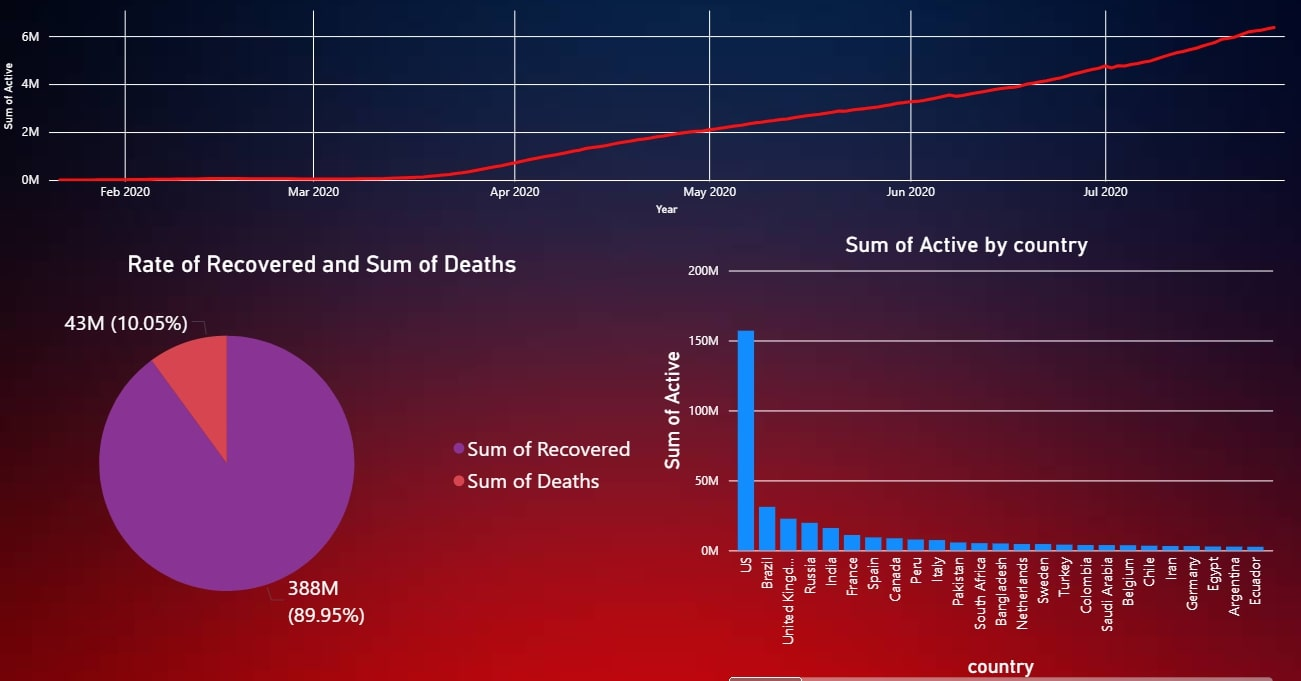

The dashboard page shown, as its layout file describes it:
{"tool":"powerbi","page":{"name":"Page 1","canvas":[1280,720],"ordinal":0},"visuals":[{"type":"lineChart","title":"Active by Year, Month and Day","fields":{"Y":["Sum(covid.Active)"],"Category":["covid.Date.Variation.Date Hierarchy.Year","covid.Date.Variation.Date Hierarchy.Month","covid.Date.Variation.Date Hierarchy.Day"]},"box":[0,12.3,1279.8,246.6],"z":0},{"type":"clusteredColumnChart","fields":{"Category":["covid.country"],"Y":["Sum(covid.Active)"]},"box":[645.4,269.9,611,450.3],"z":1000},{"type":"pieChart","title":"Rate of Recovered and Sum of Deaths","fields":{"Y":["Sum(covid.Recovered)","Sum(covid.Deaths)"]},"box":[0,287.1,635.6,393.9],"z":2000}]}

Visuals, with their boxes on the page's 1280x720 design canvas (x1, y1, x2, y2). These are canvas units, not pixel positions in the 1301x681 screenshot, which may show the page scaled, cropped or inside an application window:
"Active by Year, Month and Day" lineChart: locate(0, 12, 1280, 259)
clusteredColumnChart - covid.country x Sum(covid.Active): locate(645, 270, 1256, 720)
"Rate of Recovered and Sum of Deaths" pieChart: locate(0, 287, 636, 681)
